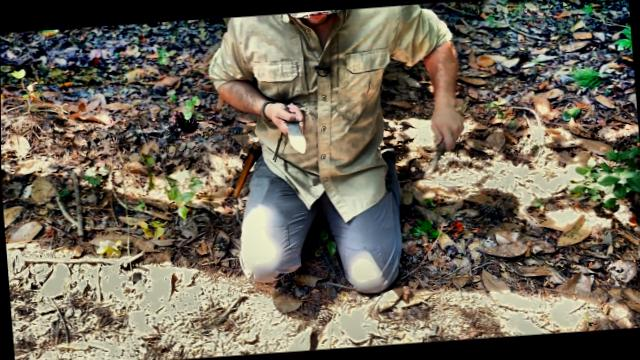knife: (267, 96, 310, 160)
